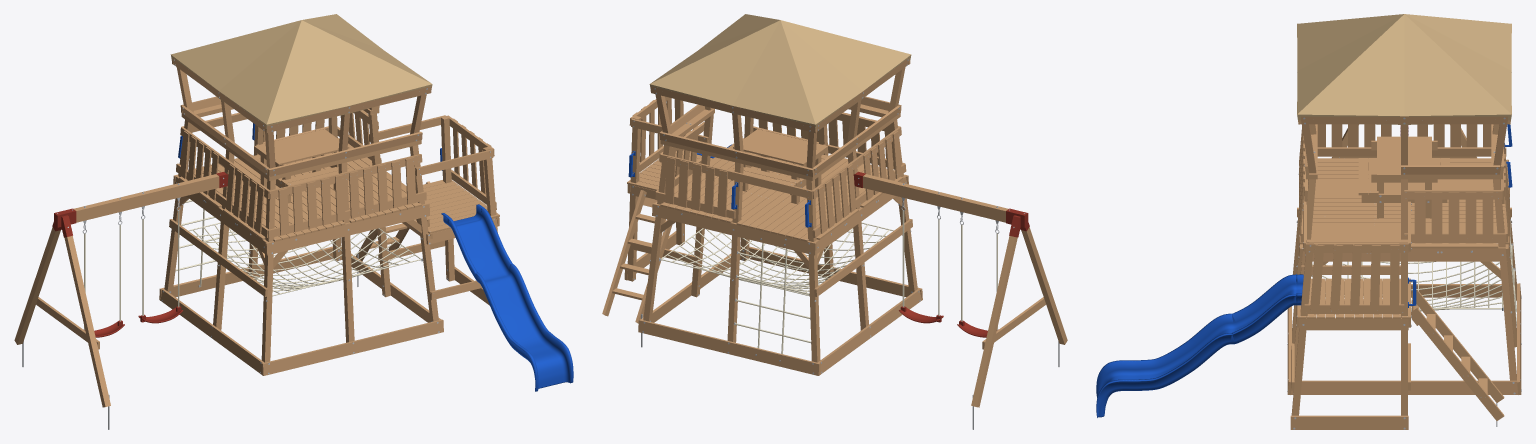
Rendered from bear_basin.glb.
The picture shows the model from 3 angles, left to right: view 1: azimuth 30°, elevation 25°; view 2: azimuth 150°, elevation 25°; view 3: azimuth 270°, elevation 25°; orthographic projection. The views are drawn at different scales.
Parts seen in each view (by area): view 1: Tarp, Slide, S04, B03, K06, C20_F, S04A, S03_W, F14_F, C01B, F16_F, C04B (+19 smaller); view 2: Tarp, S04A, B03, K07, C20_B, S03_W, S04, F14_B, C02, C04A, C01A, F16_B (+22 smaller); view 3: Tarp, Slide, S03_E, F16_E, K08_E, S02, K21, C01A, K02_O, C07, FA15_W, K20 (+37 smaller).
Boxes of the visible parts, x1,y1,x2,y2 form: Tarp: [170, 14, 432, 129]; Slide: [441, 204, 573, 391]; S04: [261, 319, 443, 375]; B03: [73, 174, 219, 222]; K06: [265, 203, 429, 255]; C20_F: [64, 236, 110, 407]; S04A: [159, 246, 333, 300]; S03_W: [160, 288, 264, 375]; F14_F: [267, 131, 422, 176]; C01B: [261, 179, 275, 362]; F16_F: [265, 86, 431, 133]; C04B: [338, 162, 354, 342]; Tarp: [649, 14, 911, 129]; S04A: [638, 319, 820, 375]; B03: [863, 174, 1008, 222]; K07: [652, 203, 816, 255]; C20_B: [971, 235, 1017, 407]; S03_W: [817, 288, 921, 374]; S04: [749, 246, 922, 300]; F14_B: [659, 131, 814, 176]; C02: [806, 179, 820, 362]; C04A: [727, 162, 743, 342]; C01A: [643, 145, 672, 321]; F16_B: [650, 86, 816, 133]; Tarp: [1297, 14, 1511, 124]; Slide: [1096, 274, 1303, 417]; S03_E: [1289, 380, 1519, 394]; F16_E: [1301, 116, 1507, 124]; K08_E: [1301, 247, 1507, 261]; S02: [1290, 415, 1408, 429]; K21: [1411, 308, 1504, 420]; C01A: [1493, 179, 1516, 380]; K02_O: [1299, 318, 1408, 330]; C07: [1291, 239, 1313, 415]; FA15_W: [1317, 147, 1506, 156]; K20: [1411, 290, 1504, 402].
Bounding box in the file's own units: 5.08 × 3.89 × 4.17.
